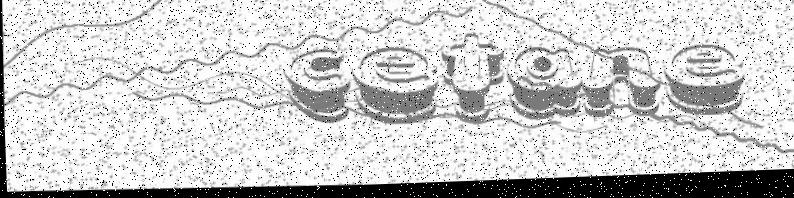a: (504, 47, 582, 124)
c: (281, 48, 350, 127)
e: (349, 48, 438, 128), (659, 45, 746, 123)
n: (579, 49, 662, 123)
t: (437, 34, 506, 129)
